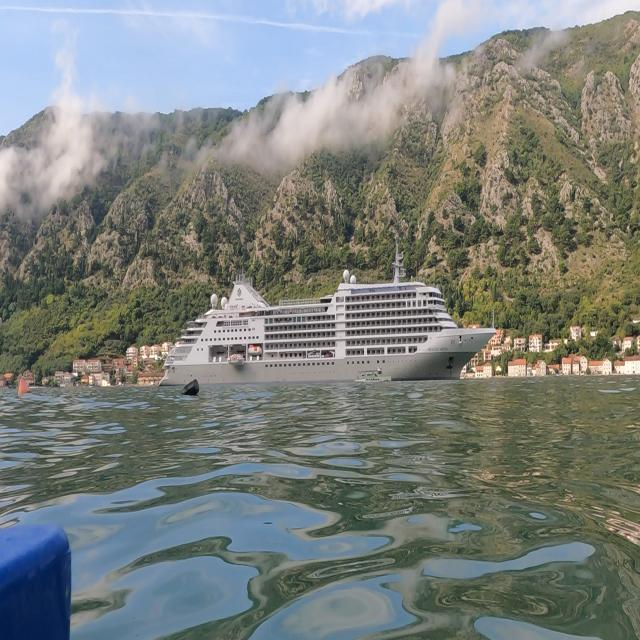boat: (157, 236, 498, 392)
buoy: (15, 369, 40, 407), (178, 378, 202, 397)
